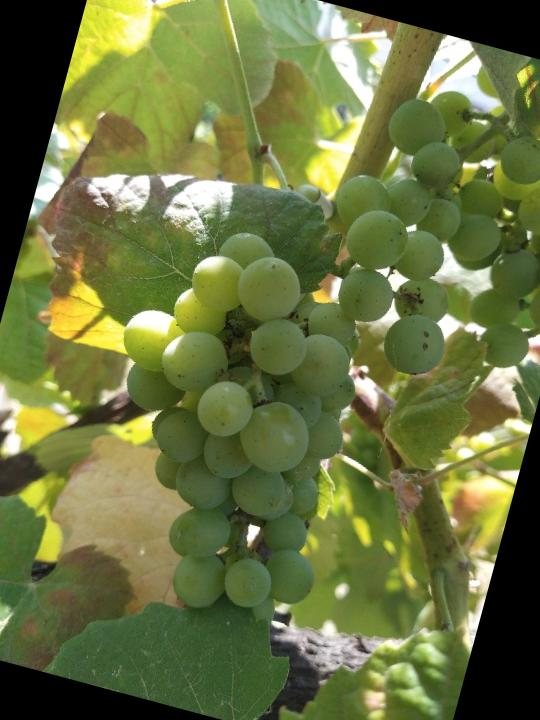grape: (54, 203, 399, 643), (294, 66, 540, 409)
